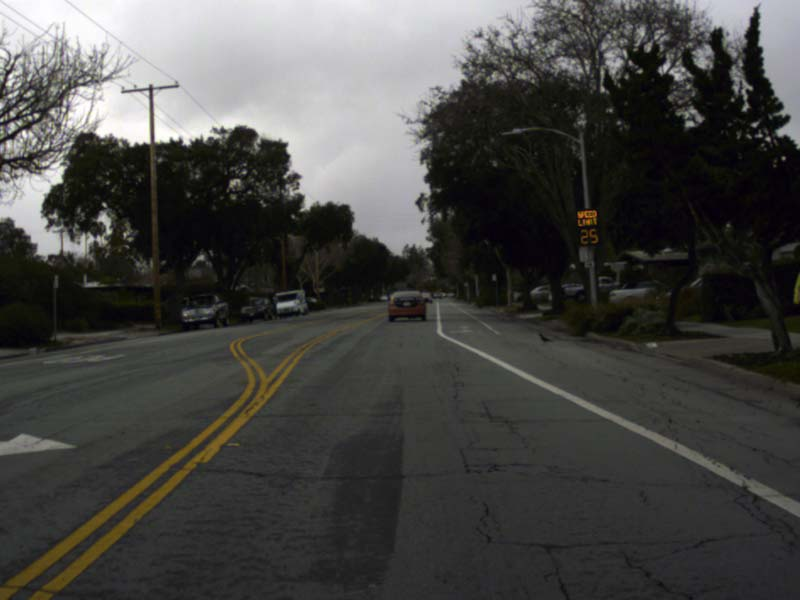Red: (432, 274, 436, 282), (445, 282, 449, 289)
